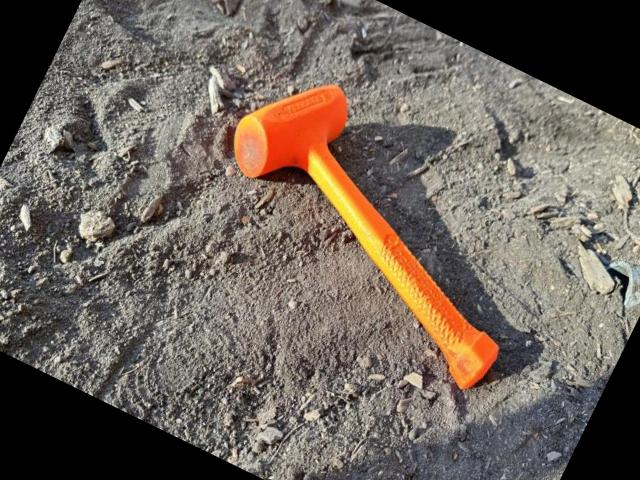hammer: (174, 53, 576, 398)
